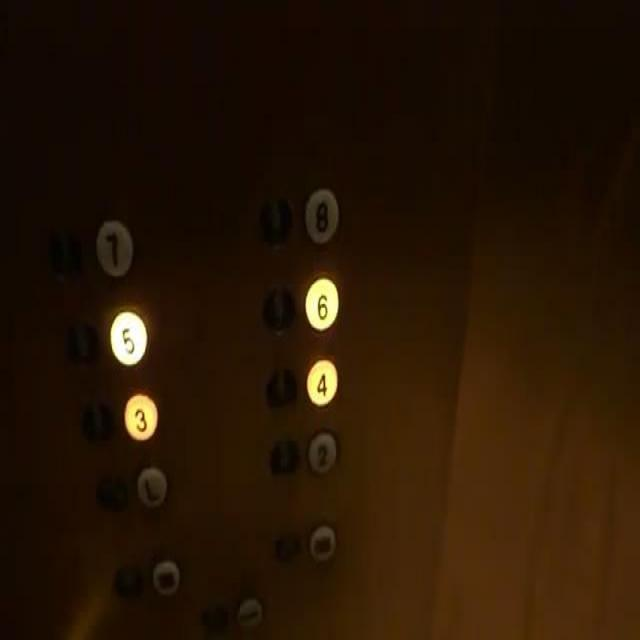2: (305, 428, 339, 479)
3: (118, 391, 160, 444)
4: (303, 356, 338, 409)
5: (107, 306, 148, 370)
6: (303, 273, 341, 331)
7: (90, 215, 134, 280)
8: (301, 181, 340, 247)
L: (130, 461, 172, 511)
blur: (148, 555, 180, 601), (234, 589, 264, 636), (306, 519, 336, 565)
